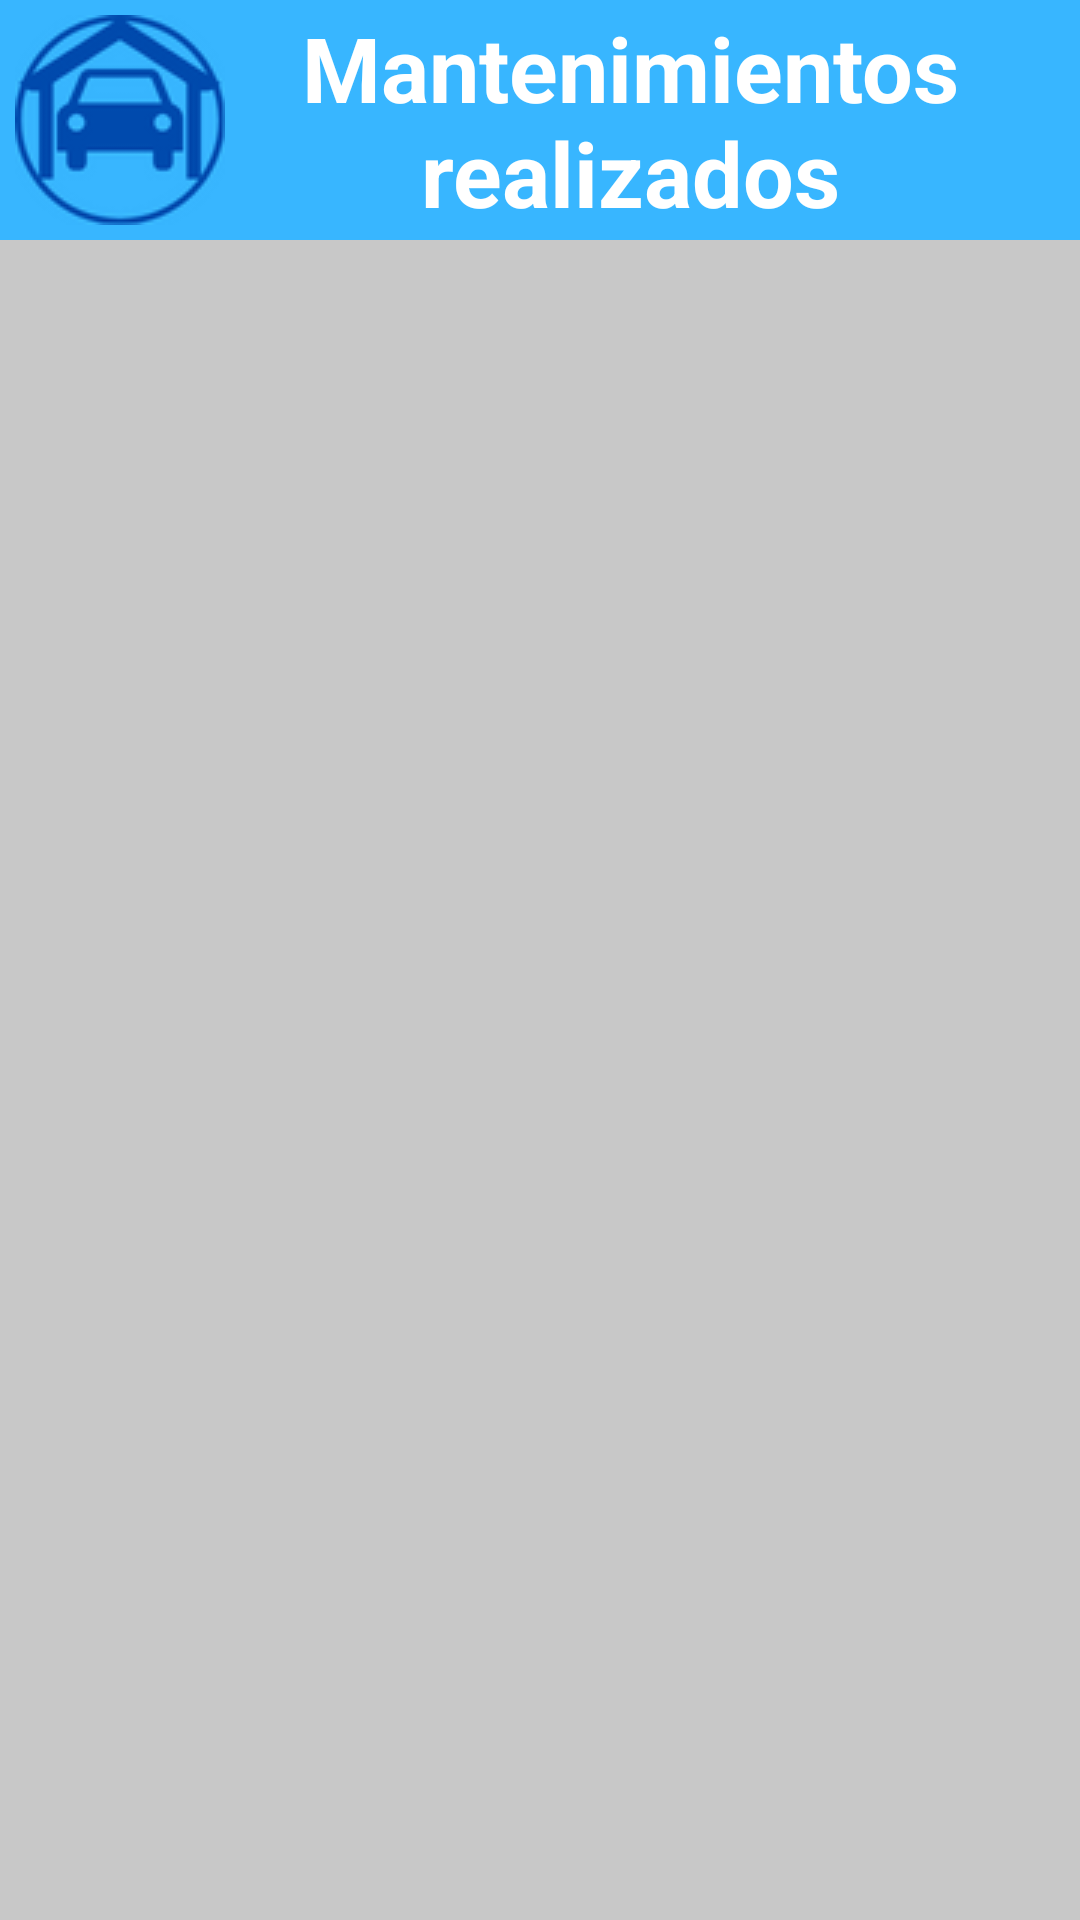

Screen size 1080w x 1920h. Icon name, then its center in pixels as point (x, y):
Botón Garaje: point (120, 120)
